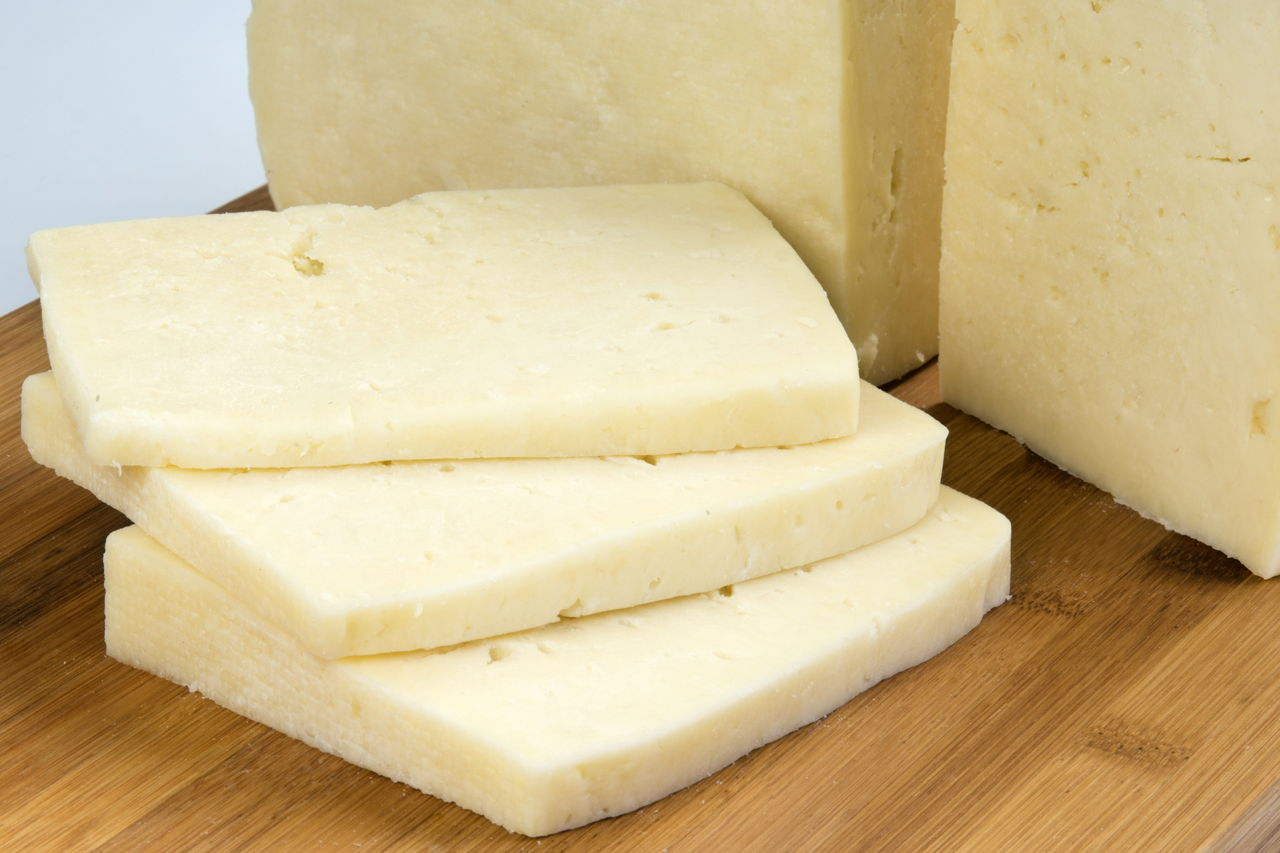cheese: (38, 190, 1045, 811)
